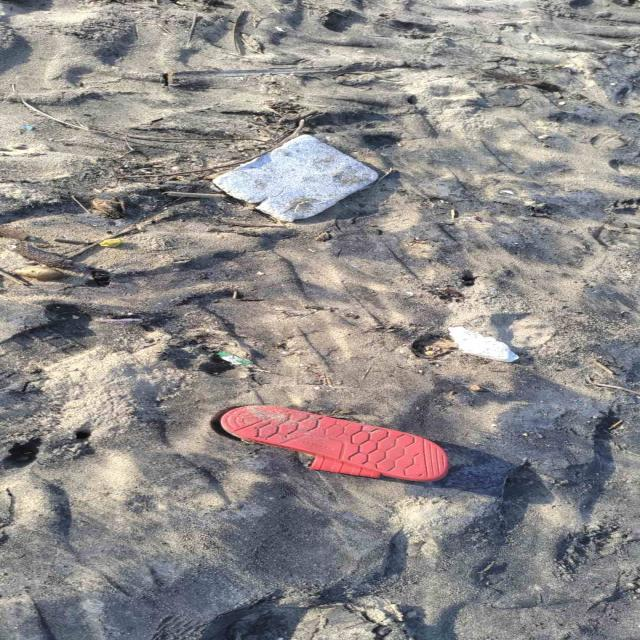biowaste: (114, 116, 307, 179), (17, 99, 265, 144), (8, 217, 152, 286), (88, 190, 126, 218), (64, 242, 97, 257), (162, 191, 226, 198), (110, 222, 137, 237), (209, 69, 266, 76)
other: (219, 406, 448, 482)
styrofoam: (211, 134, 379, 221)
